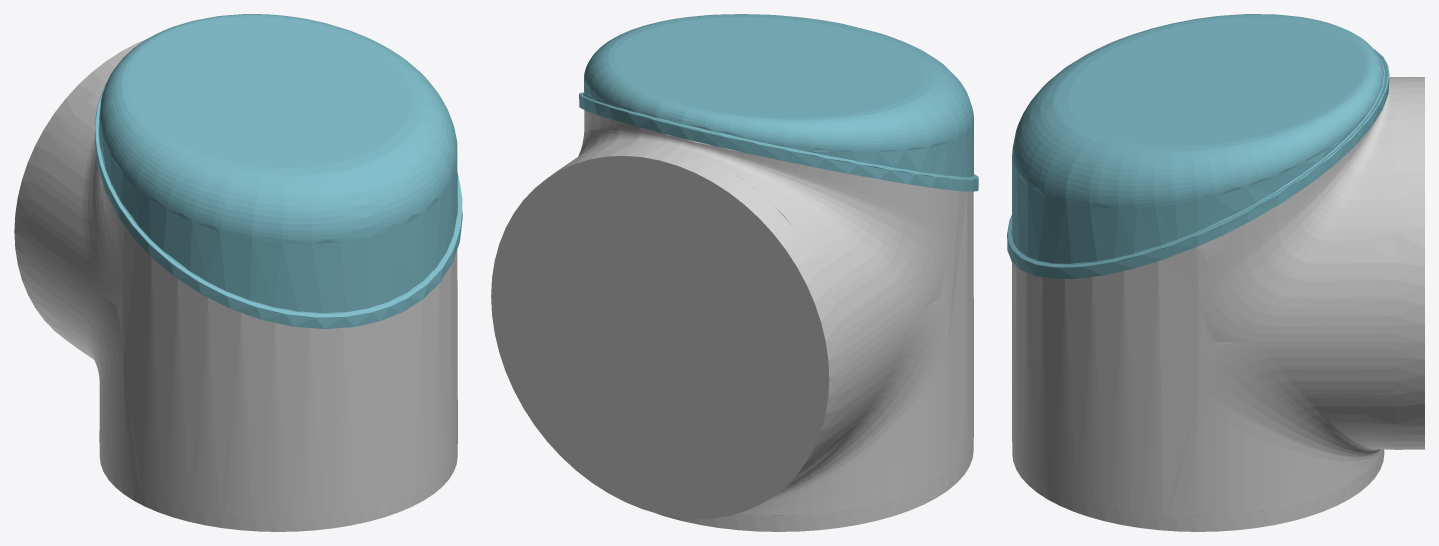
Rendered from shoulder.dae.
3 views of the same model, side by side, from view 1: azimuth 30°, elevation 25°; view 2: azimuth 150°, elevation 25°; view 3: azimuth 270°, elevation 25° (orthographic). The views are drawn at different scales.
Parts seen in each view (by area): view 1: shoulder; view 2: shoulder; view 3: shoulder.
Boxes of the visible parts, left/top/right/bottom form: shoulder: left=14, top=14, right=462, bottom=531; shoulder: left=491, top=14, right=978, bottom=531; shoulder: left=1007, top=14, right=1424, bottom=531.
Bounding box in the file's own units: 0.119 × 0.13 × 0.1337.
